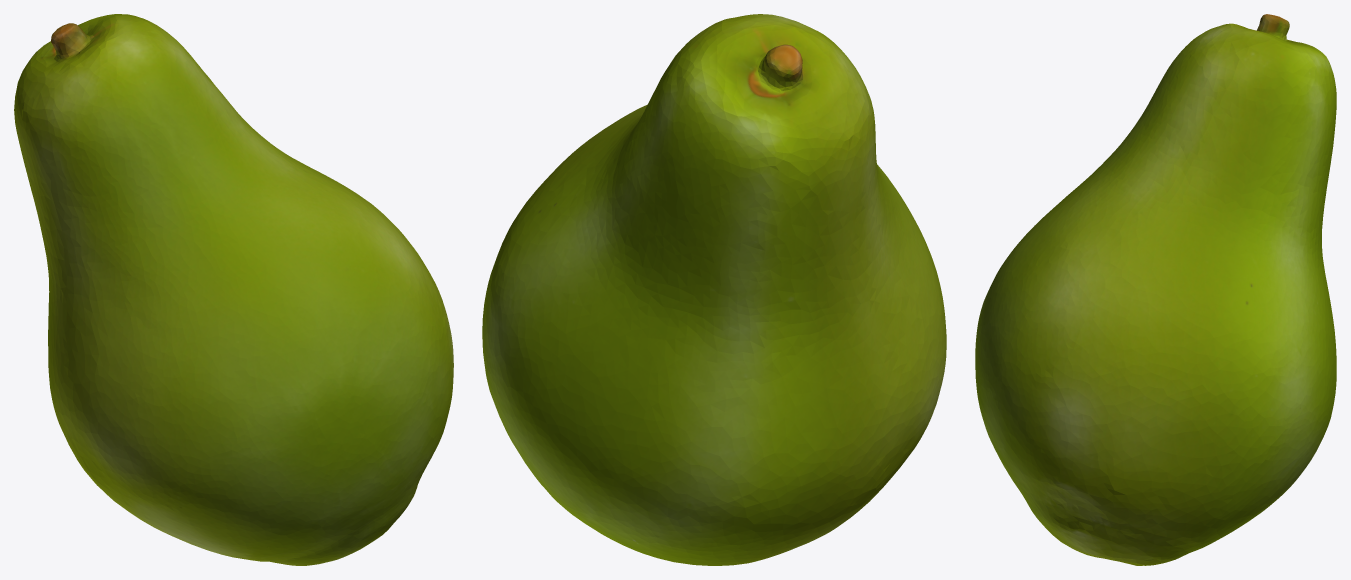
Rendered from pear.glb.
The picture shows the model from 3 angles, left to right: view 1: azimuth 30°, elevation 25°; view 2: azimuth 150°, elevation 25°; view 3: azimuth 270°, elevation 25°; orthographic projection. The views are drawn at different scales.
Parts seen in each view (by area): view 1: textured.obj; view 2: textured.obj; view 3: textured.obj.
Part boxes in pixels (box(x1,y1,x2,y2)): textured.obj: box(14, 14, 453, 565); textured.obj: box(482, 14, 946, 565); textured.obj: box(975, 14, 1336, 565).
Size of the model in its own units: 0.0662 by 0.0947 by 0.0658.
Materials: 1 (1 with a texture image).
